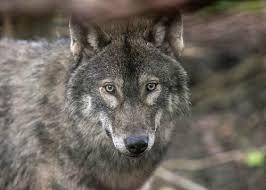Wolf: (0, 12, 191, 190)
